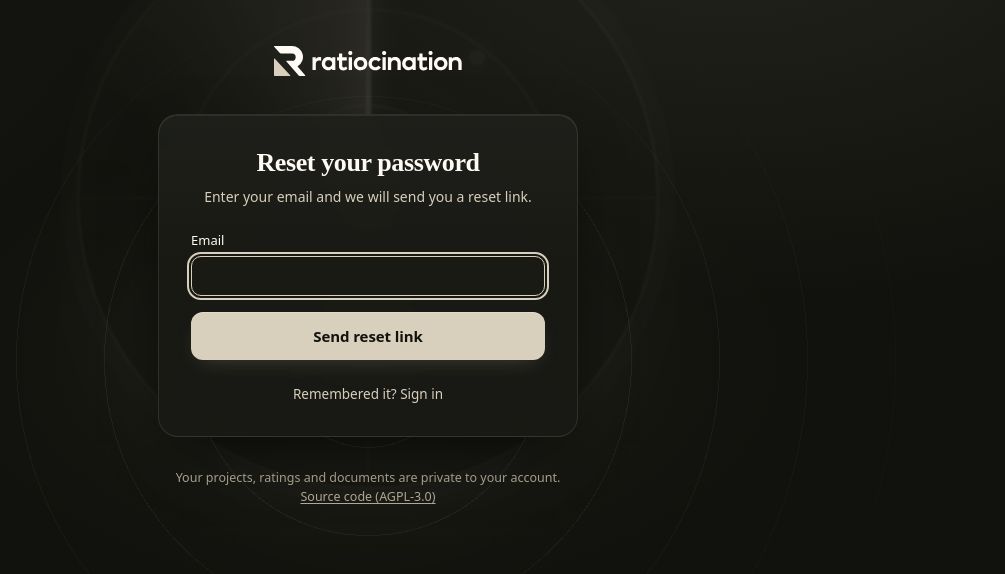
Test: ForgotPasswordPage › always answers the same way
The image size is (1005, 574).
Expected: the heading "Reset your password" is shown, 256,148 -> 480,177
In the field labelled "Email": (368, 276) 191,256 -> 545,296, type "someone@example.org"
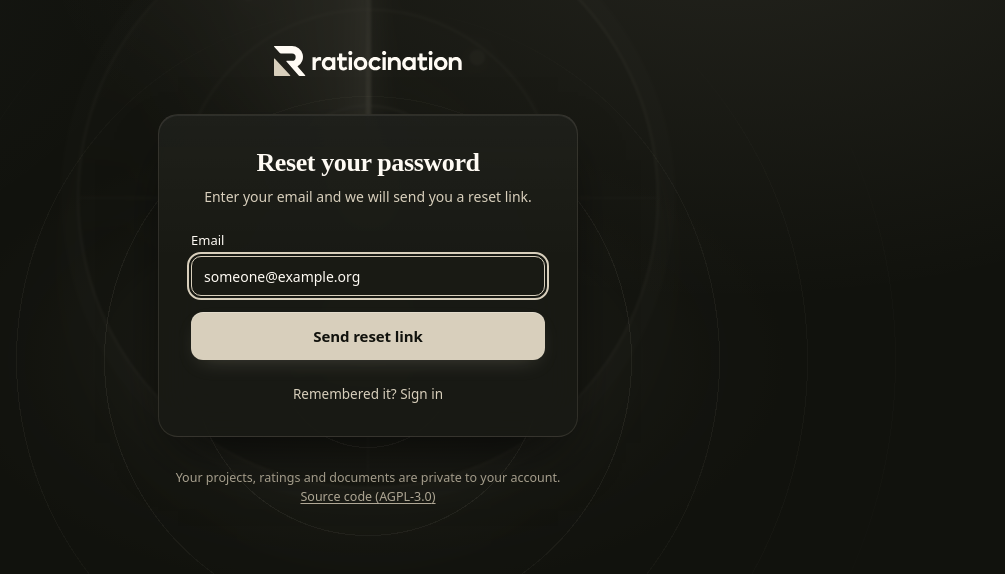
Click the button "Send reset link": (368, 336) 191,312 -> 545,360
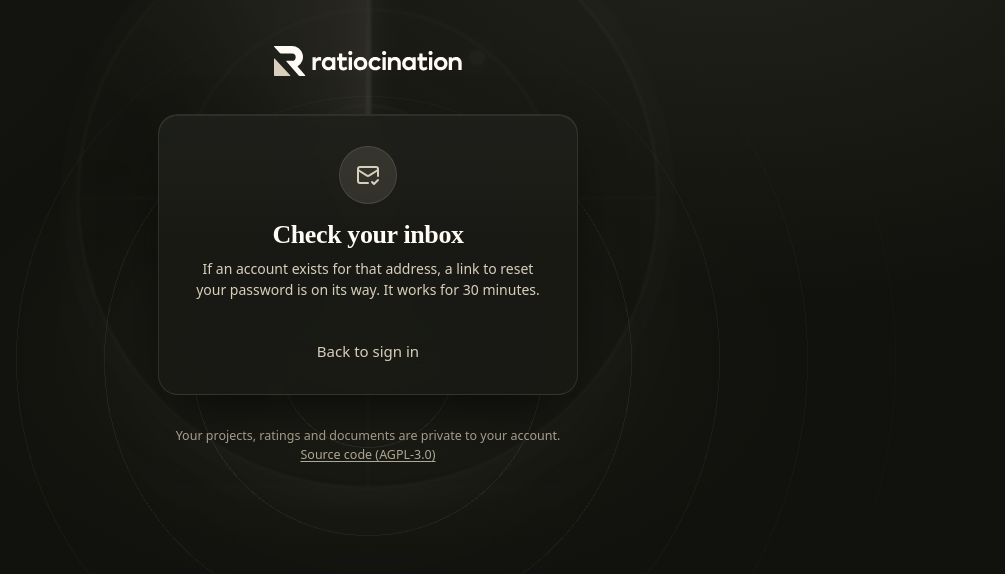
Now the heading "Check your inbox" is shown, box 272,220 -> 464,249
